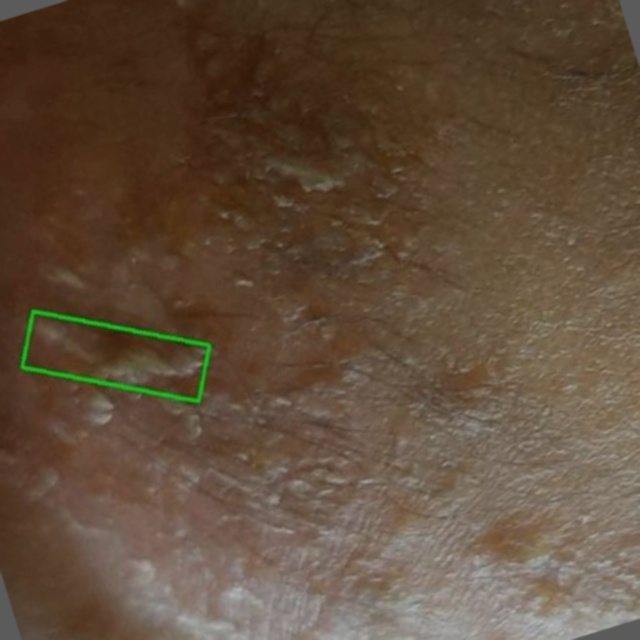Seborrheic Dermatitis: (21, 310, 208, 401)
